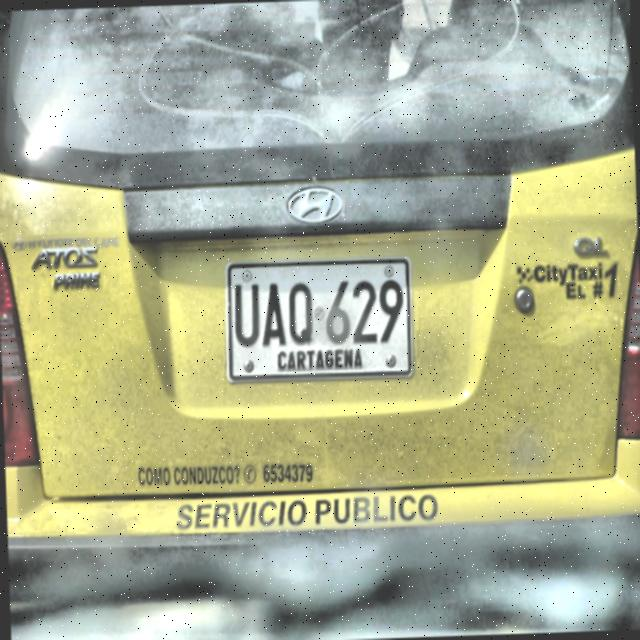plate: (225, 256, 414, 383)
